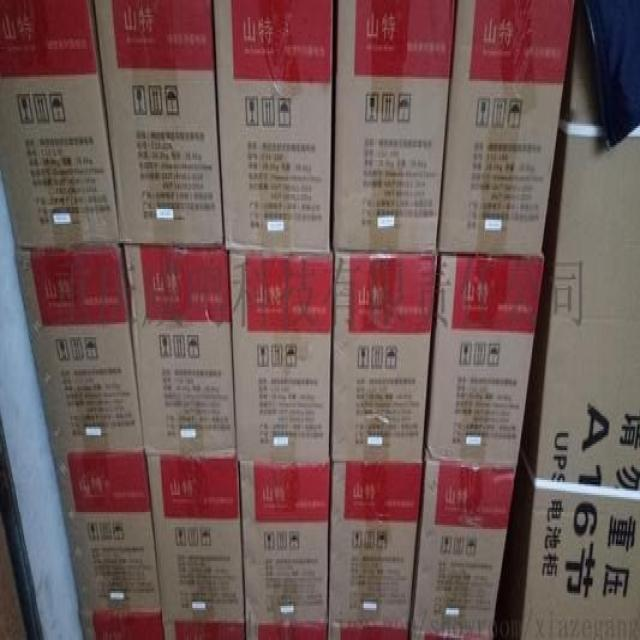box: (491, 4, 640, 640), (433, 0, 576, 258), (95, 0, 223, 247), (330, 0, 455, 252), (214, 0, 331, 254), (14, 239, 143, 452), (423, 252, 544, 465), (122, 245, 237, 457), (330, 252, 437, 461), (228, 250, 331, 461), (408, 446, 518, 634), (53, 446, 161, 610), (142, 444, 243, 612), (327, 461, 423, 623), (237, 454, 329, 621), (80, 608, 166, 640), (161, 608, 246, 640), (245, 619, 328, 638), (327, 619, 409, 638), (408, 625, 491, 638)
